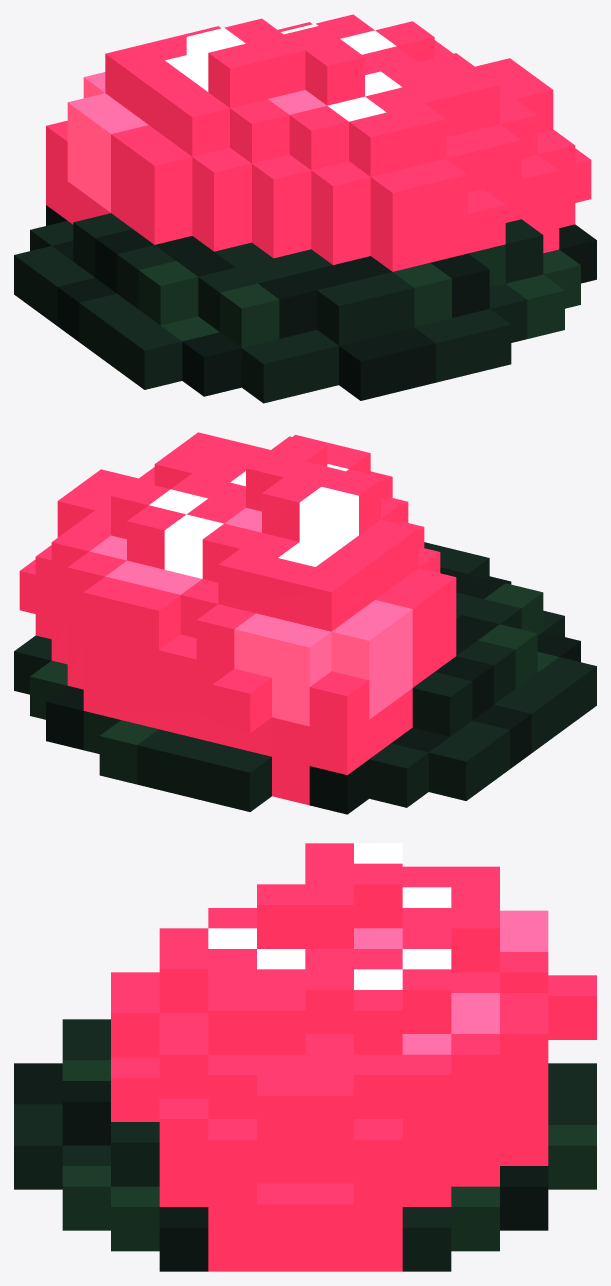
The model's file is moss_clump_crimson.glb.
3 renders of one model, top to bottom at view 1: azimuth 30°, elevation 25°; view 2: azimuth 150°, elevation 25°; view 3: azimuth 270°, elevation 25°, orthographic. The views are drawn at different scales.
Visible parts, largest first — view 1: moss; view 2: moss; view 3: moss.
Boxes of the visible parts, x1,y1,x2,y2 form: moss: (14, 14, 596, 403); moss: (14, 432, 596, 814); moss: (14, 843, 596, 1271).
Size of the model in its own units: 0.8125 by 0.375 by 0.75.
1 material, 1 textured.
